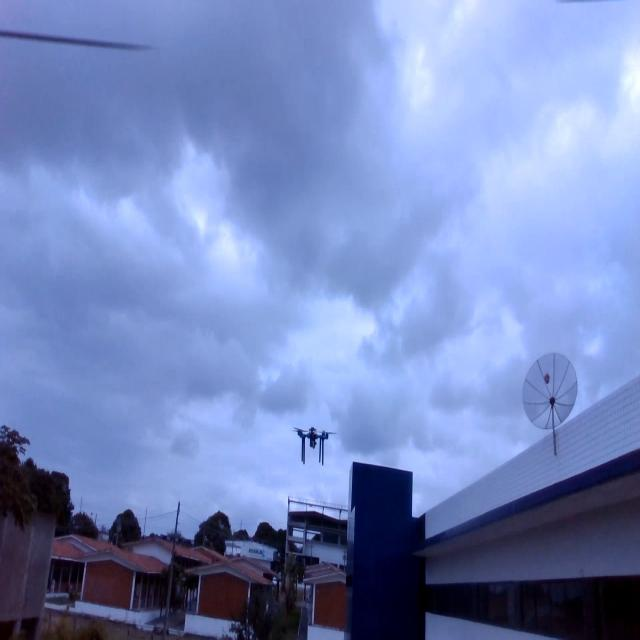-uav-: (294, 421, 338, 474)
